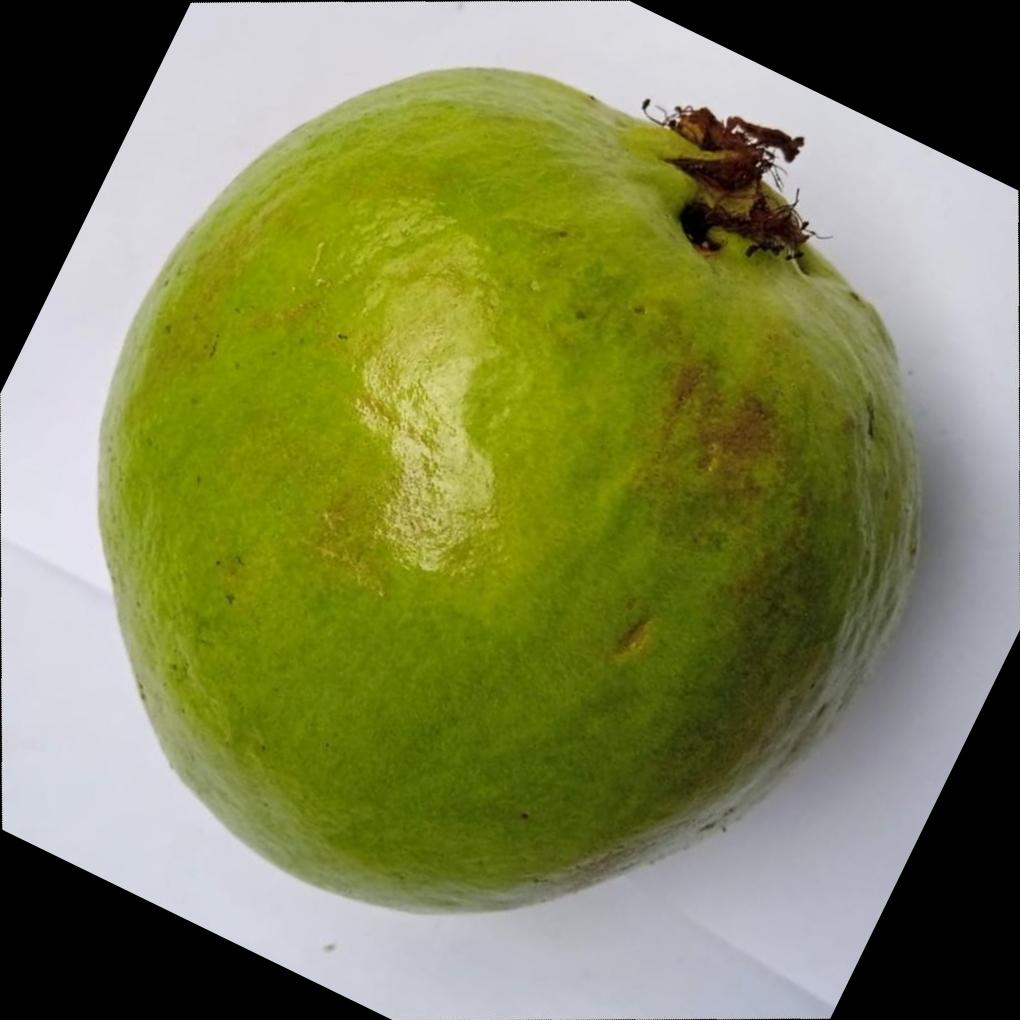FreshGuava: (91, 65, 922, 919)
